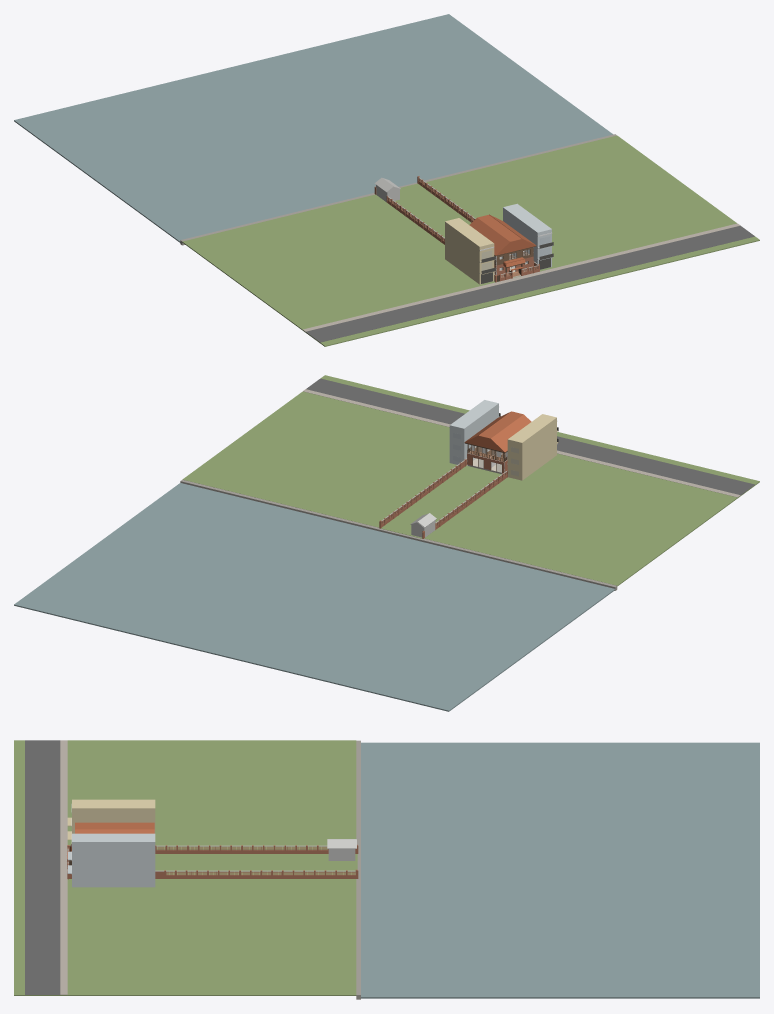
File: c1_architecture.fbx
3 renders of one model, top to bottom at view 1: azimuth 30°, elevation 25°; view 2: azimuth 150°, elevation 25°; view 3: azimuth 270°, elevation 25°, orthographic. The views are drawn at different scales.
Parts seen in each view (by area): view 1: SITE__river, SITE__grass, SITE__asphalt, NEIGHBOURS__neigh_a, SITE__paver, ROOF__tile_roof, NEIGHBOURS__neigh_b, SITE__stone_dk, FENCE__brick; view 2: SITE__river, SITE__grass, SITE__asphalt, NEIGHBOURS__neigh_a, SITE__stone_dk, NEIGHBOURS__neigh_b, ROOF__tile_roof, SITE__paver, FENCE__brick; view 3: SITE__river, SITE__grass, SITE__asphalt, NEIGHBOURS__neigh_b, NEIGHBOURS__neigh_a, FENCE__brick, SITE__paver, SITE__stone_dk, FENCE__breeze, ROOF__tile_roof, FENCE__stone, SITE__existing.
Part boxes in pixels (x1,y1,x2,y2): SITE__river: [14, 14, 613, 242]; SITE__grass: [182, 135, 759, 346]; SITE__asphalt: [306, 225, 754, 342]; NEIGHBOURS__neigh_a: [445, 218, 495, 284]; SITE__paver: [302, 223, 740, 331]; ROOF__tile_roof: [469, 214, 536, 267]; NEIGHBOURS__neigh_b: [503, 203, 553, 267]; SITE__stone_dk: [180, 134, 616, 245]; FENCE__brick: [374, 176, 539, 282]; SITE__river: [14, 483, 615, 711]; SITE__grass: [182, 375, 759, 586]; SITE__asphalt: [306, 378, 754, 495]; NEIGHBOURS__neigh_a: [507, 414, 558, 480]; SITE__stone_dk: [180, 479, 617, 590]; NEIGHBOURS__neigh_b: [449, 400, 499, 464]; ROOF__tile_roof: [464, 411, 531, 452]; SITE__paver: [303, 389, 740, 497]; FENCE__brick: [379, 459, 507, 538]; SITE__river: [361, 742, 759, 998]; SITE__grass: [14, 740, 357, 995]; SITE__asphalt: [25, 740, 60, 994]; NEIGHBOURS__neigh_b: [67, 833, 155, 887]; NEIGHBOURS__neigh_a: [67, 799, 155, 839]; FENCE__brick: [67, 844, 358, 879]; SITE__paver: [60, 740, 67, 994]; SITE__stone_dk: [356, 740, 360, 999]; FENCE__breeze: [156, 846, 355, 875]; ROOF__tile_roof: [70, 822, 154, 851]; FENCE__stone: [67, 845, 355, 871]; SITE__existing: [327, 839, 356, 860].
Size of the model in its own units: 135 by 12.4 by 167.
